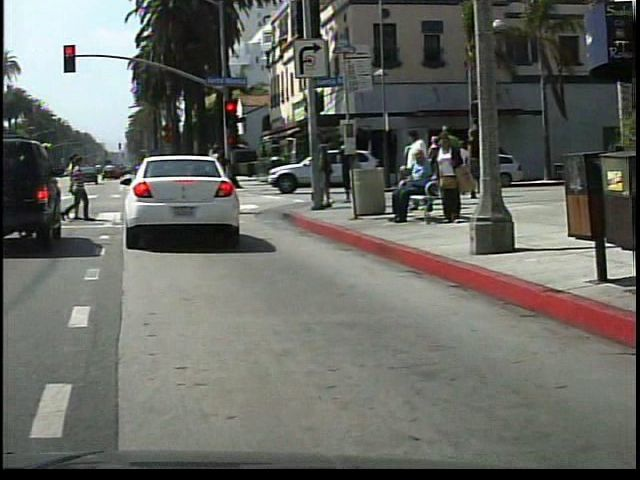person: (391, 151, 440, 228), (434, 130, 471, 229), (201, 137, 239, 219)
